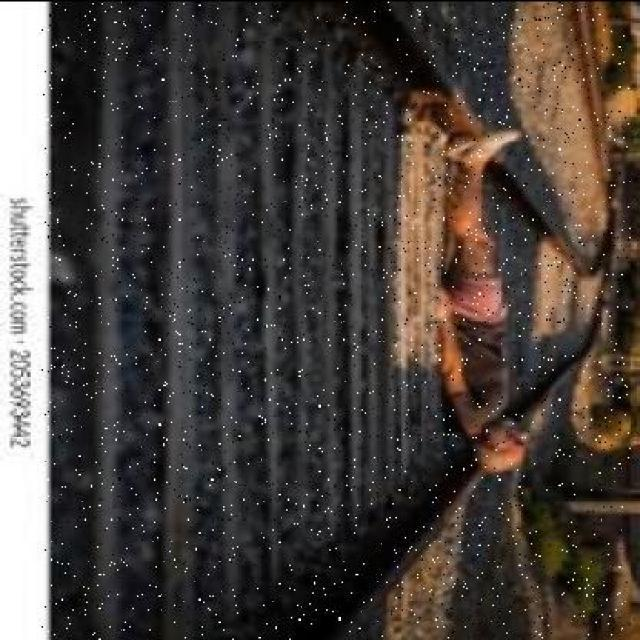danger: (442, 124, 532, 487)
rail: (42, 0, 630, 638)
